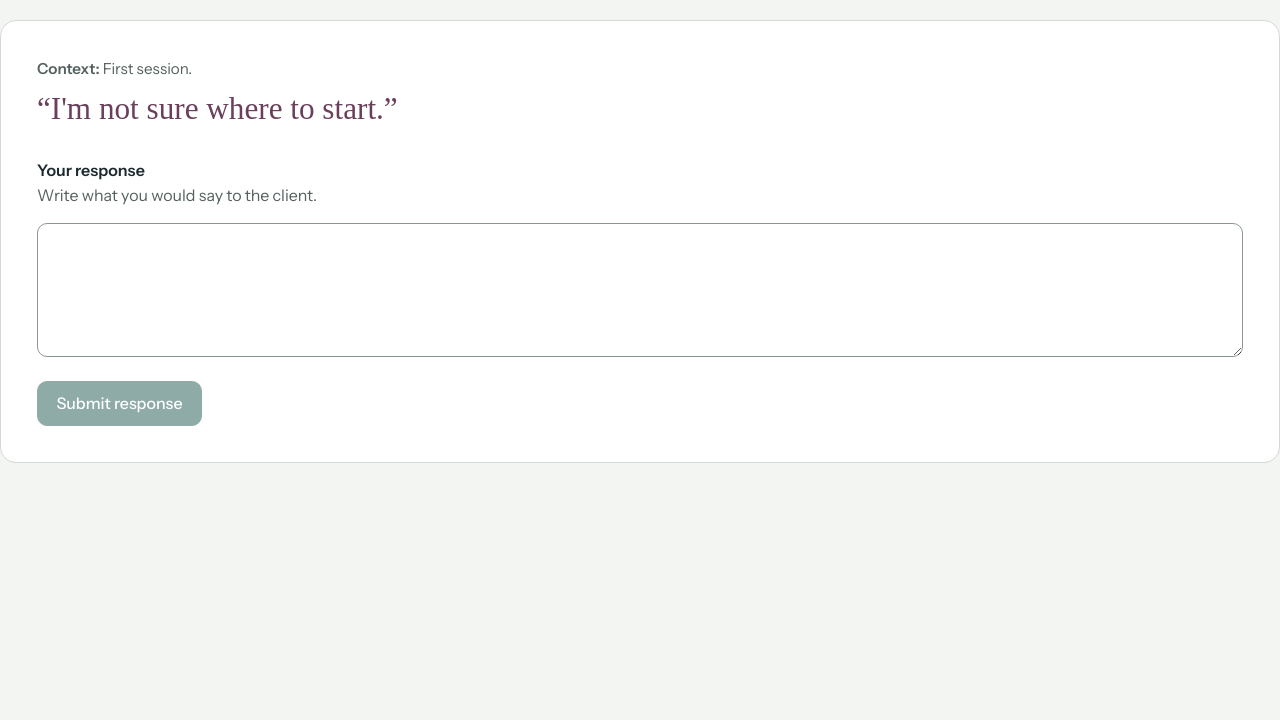
Scenario: DrillCard › if saving fails the typed response stays in the box and an error is shown
Type "A response that is long enough." into the text box labelled "Your response" at (640, 290), box [37,223,1243,357]
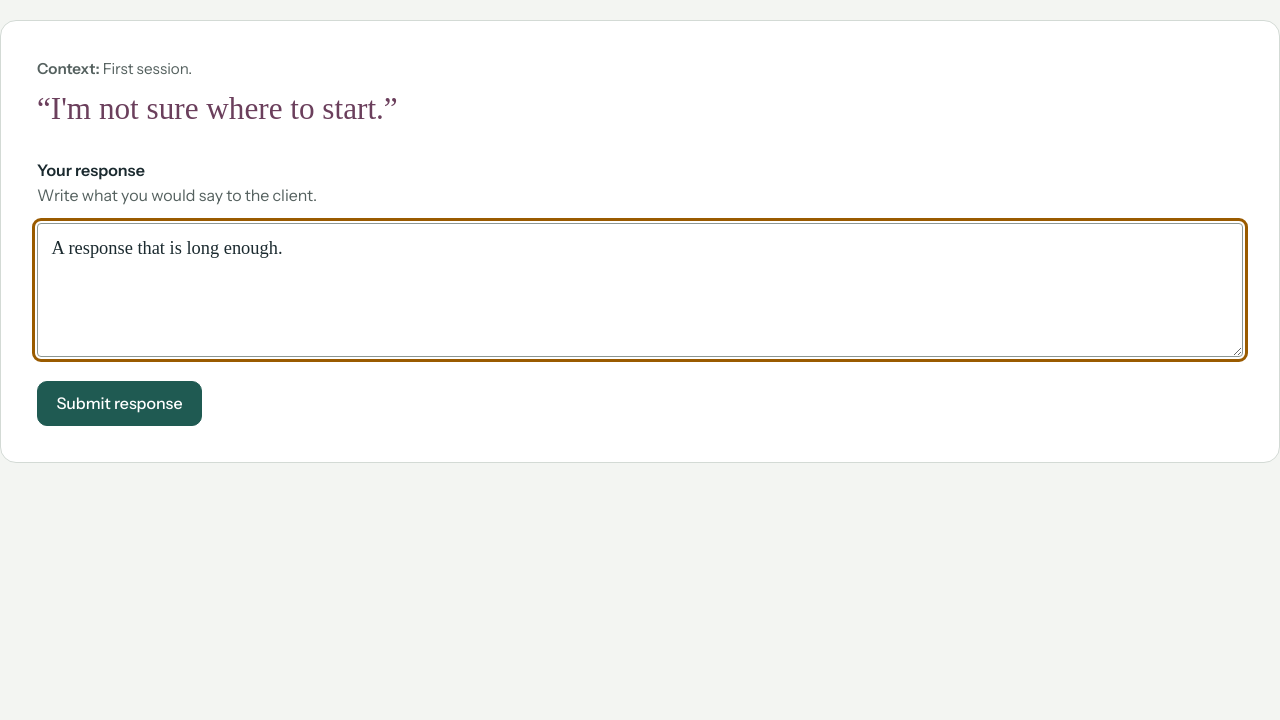
Click the button "Submit response" at (120, 404), box [37,381,202,426]
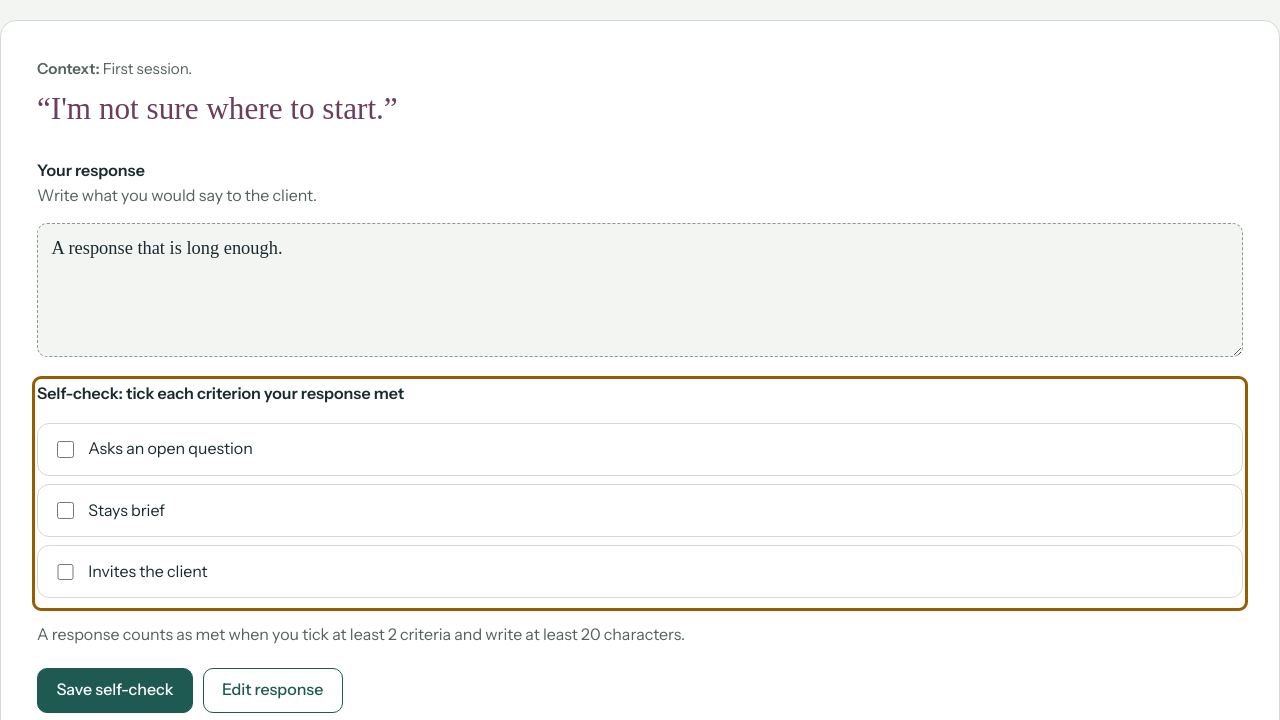
Click the button "Save self-check" at (115, 690), box [37,668,193,713]
(page scrolled)
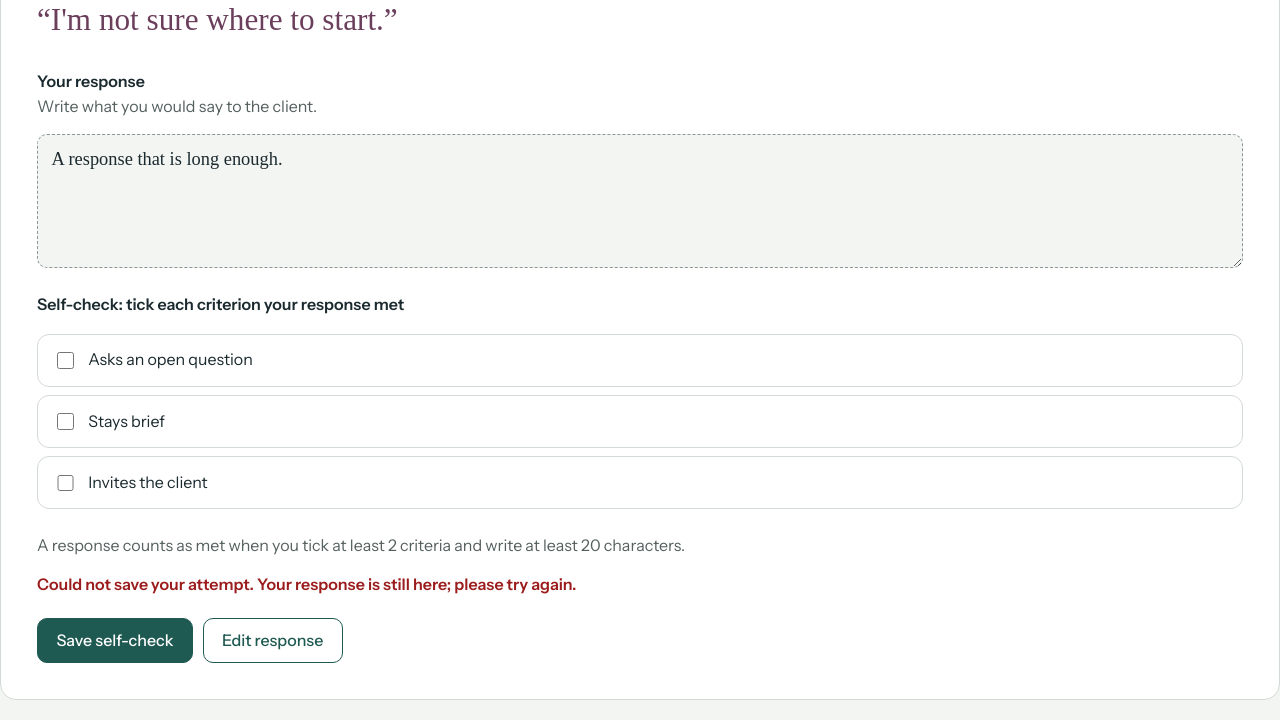
expect the button "Save self-check" is enabled: met, box [37,618,193,663]
expect the message shows "Could not save": met, box [37,574,576,594]
